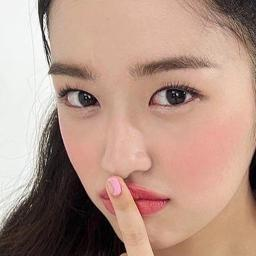face: (56, 0, 256, 248)
